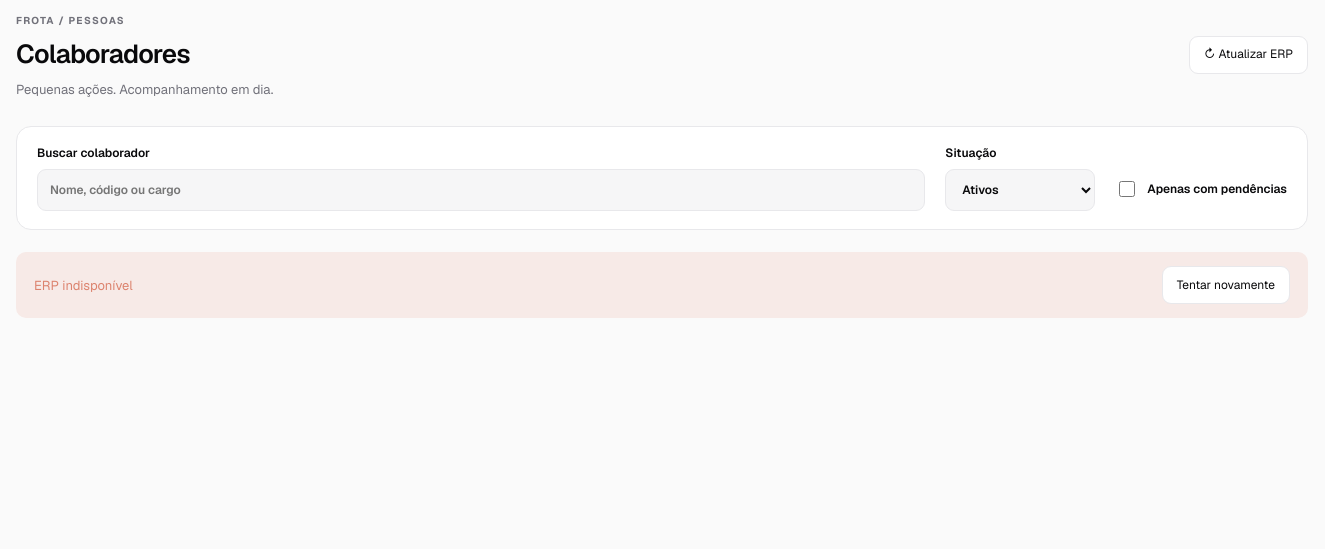
Test: shows empty and error states without fabricated progress
The image size is (1325, 549).
Click the button "Tentar novamente": (1226, 286) [1162,266,1290,304]
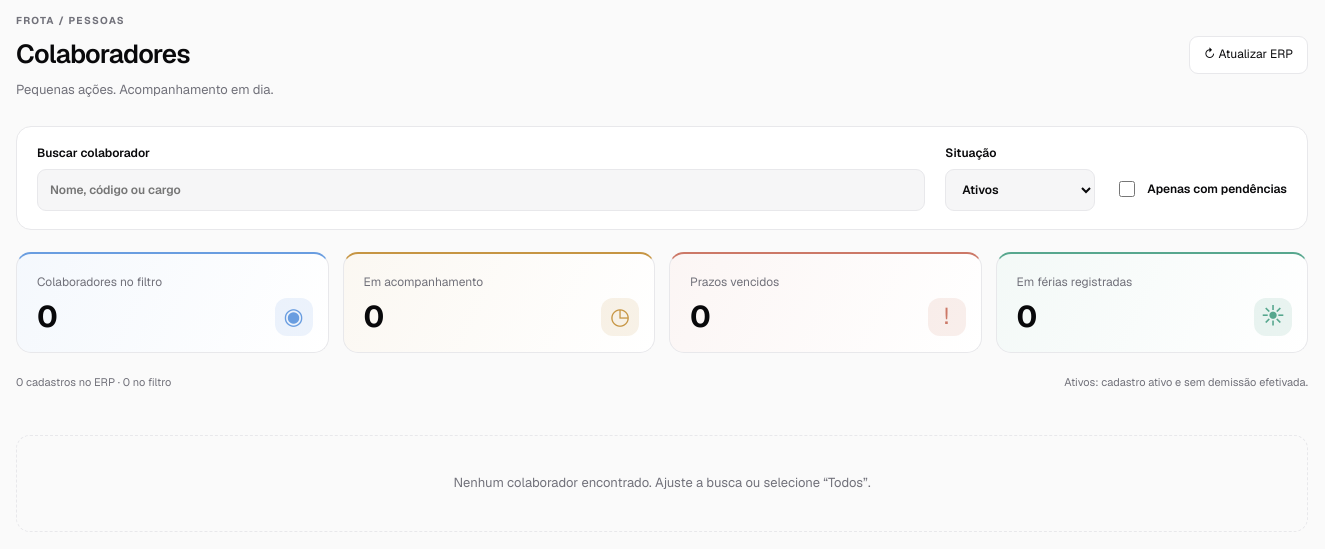
Check: the text "Nenhum colaborador encontrado" is shown, box [454,474,871,491]
